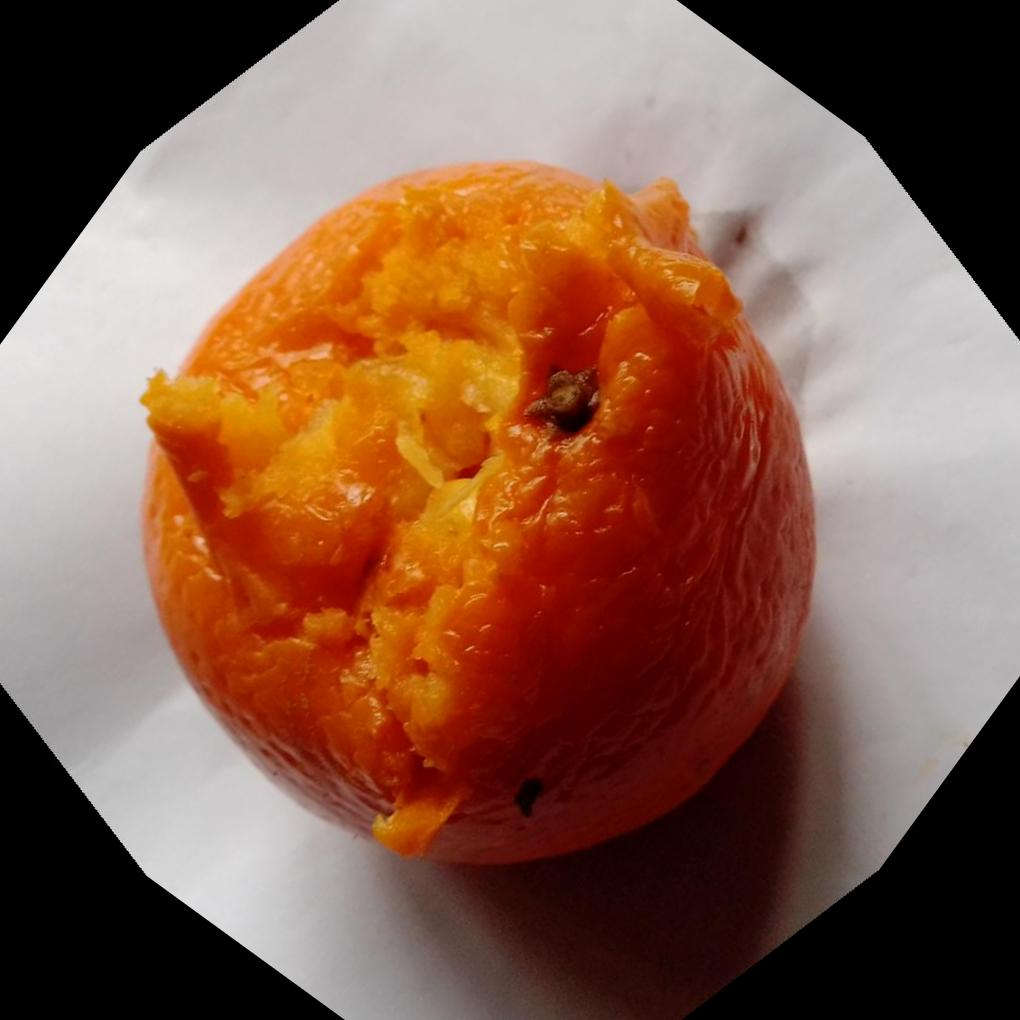FreshOrange: (135, 160, 818, 871)
